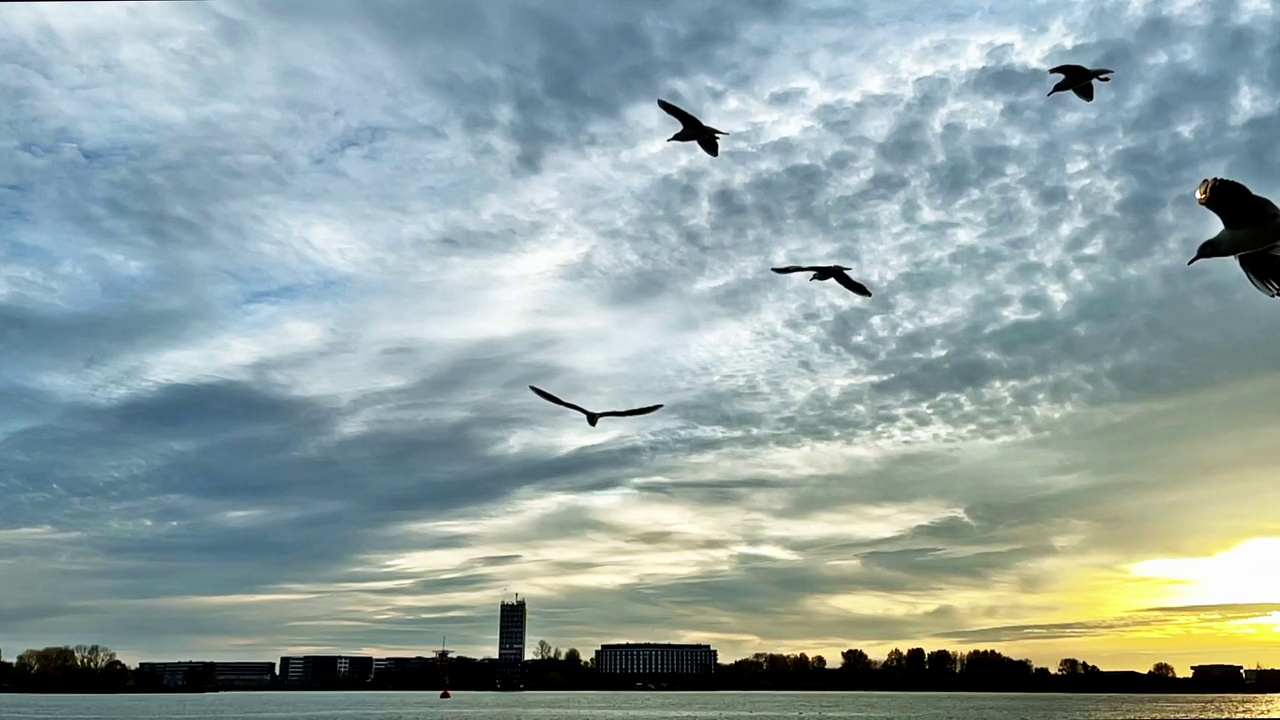bird: (1187, 177, 1280, 299), (529, 384, 661, 428), (654, 96, 727, 157), (771, 263, 873, 296), (1047, 62, 1114, 101)
